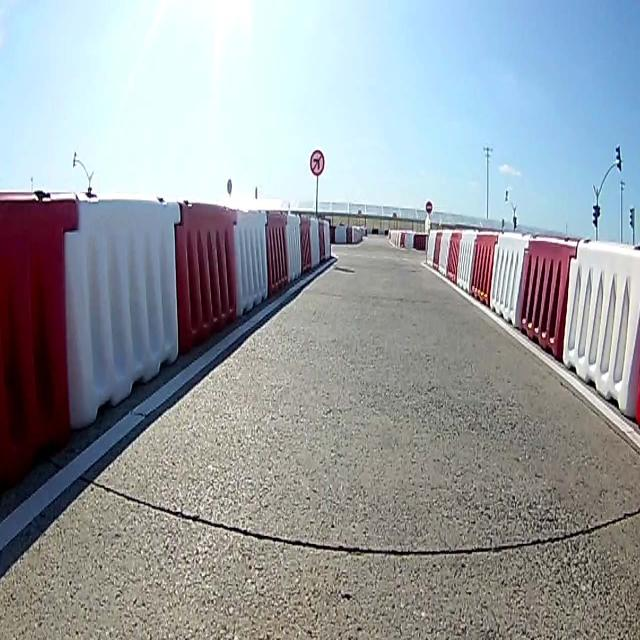soladonulmez: (311, 149, 324, 177)
